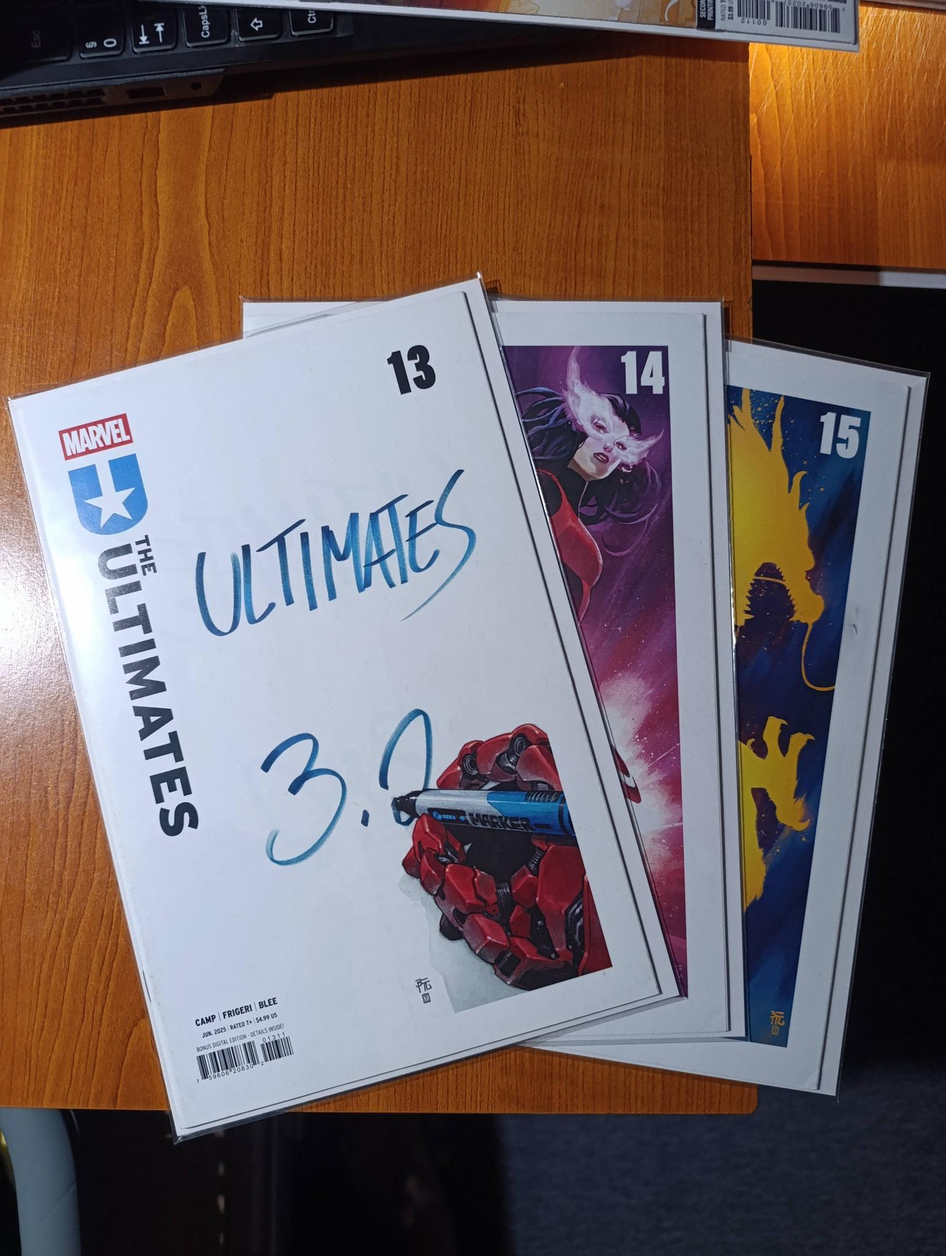comic: (0, 273, 680, 1138)
